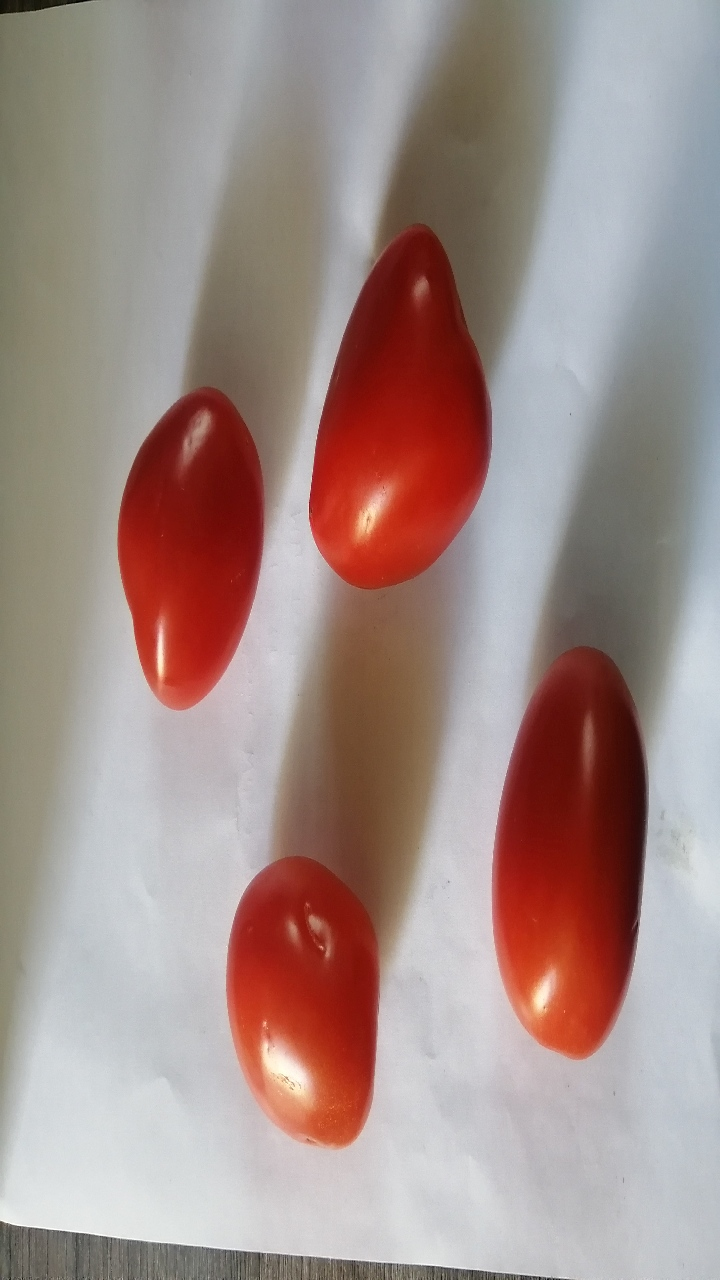tomateRojo: (280, 197, 541, 625), (74, 340, 289, 759), (183, 829, 411, 1166), (472, 651, 646, 1079)
